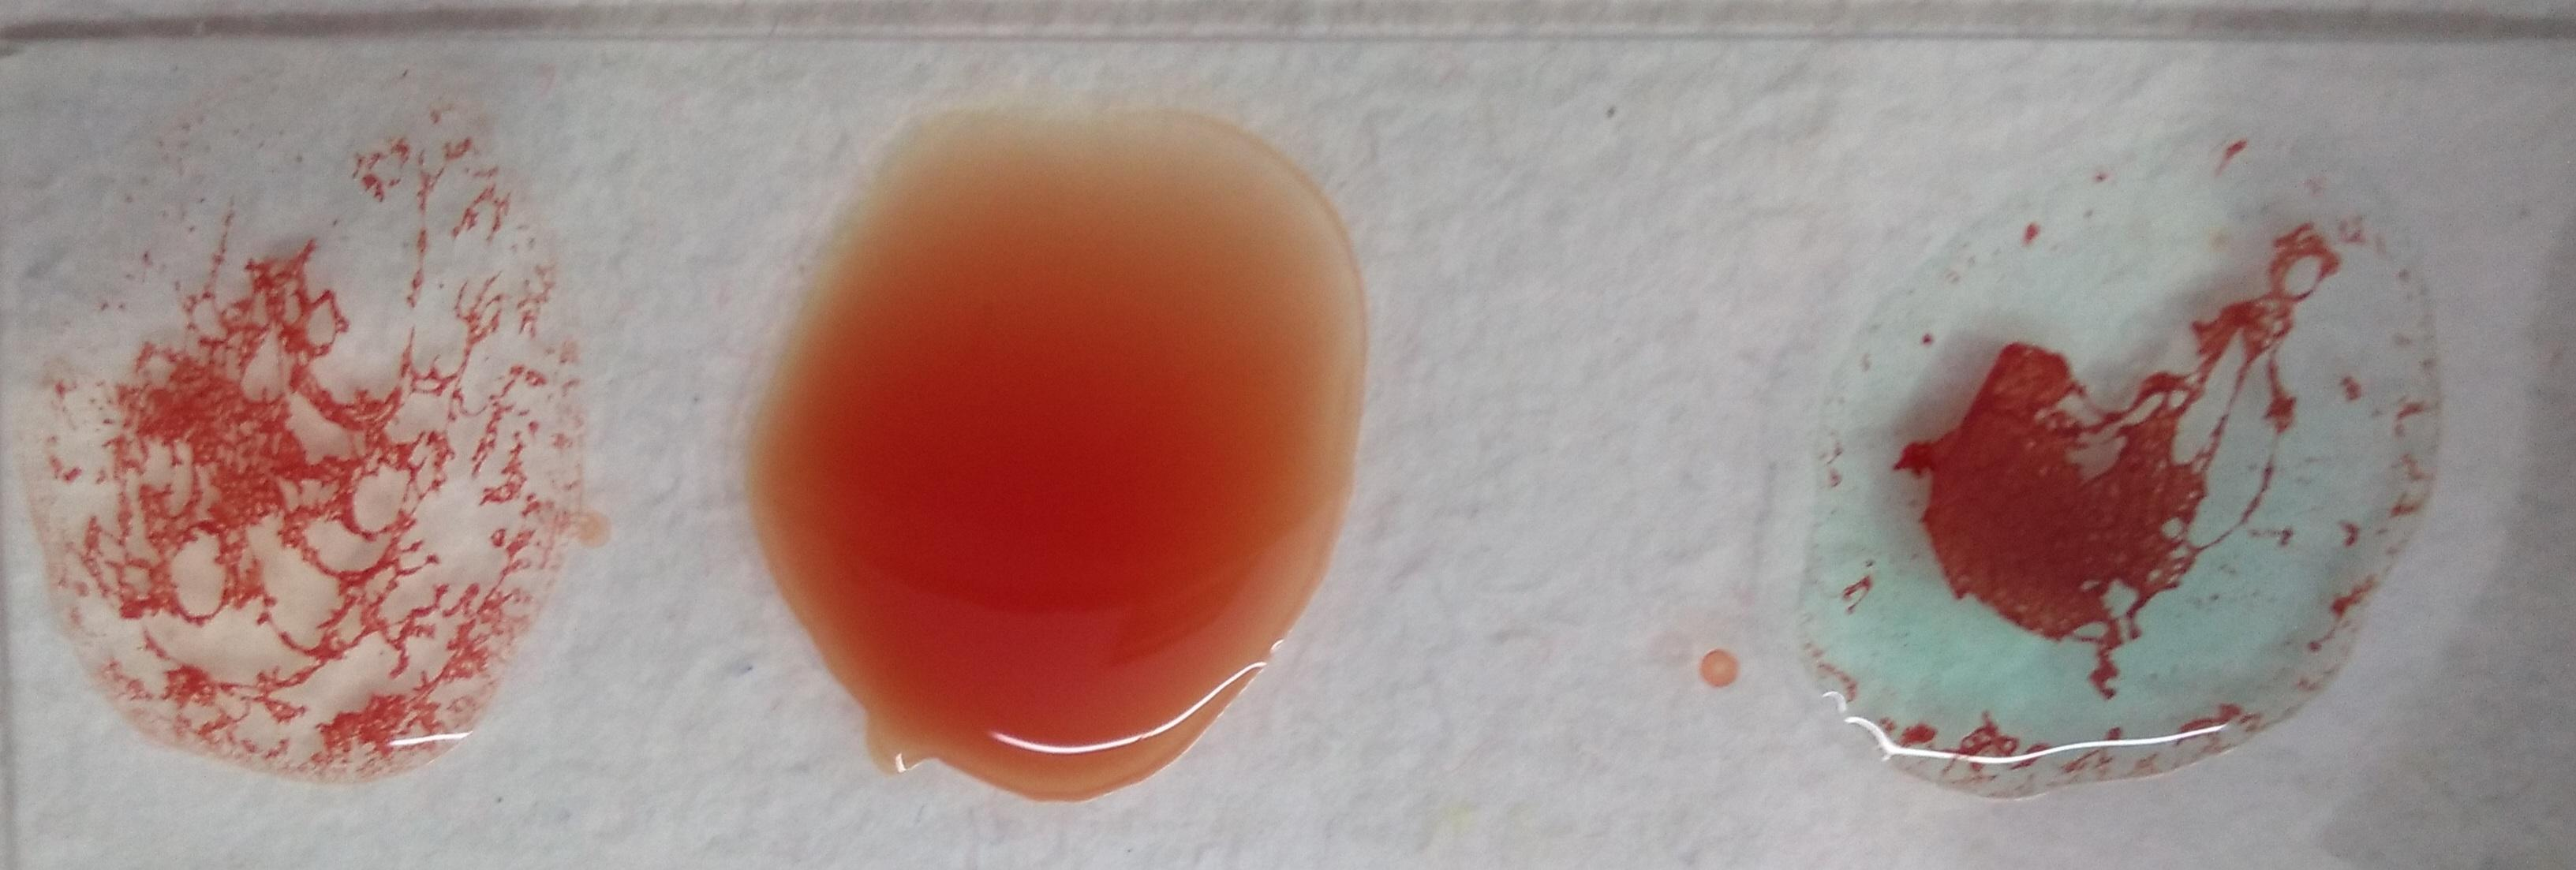A: (1817, 118, 2399, 794)
D: (48, 95, 568, 773)
